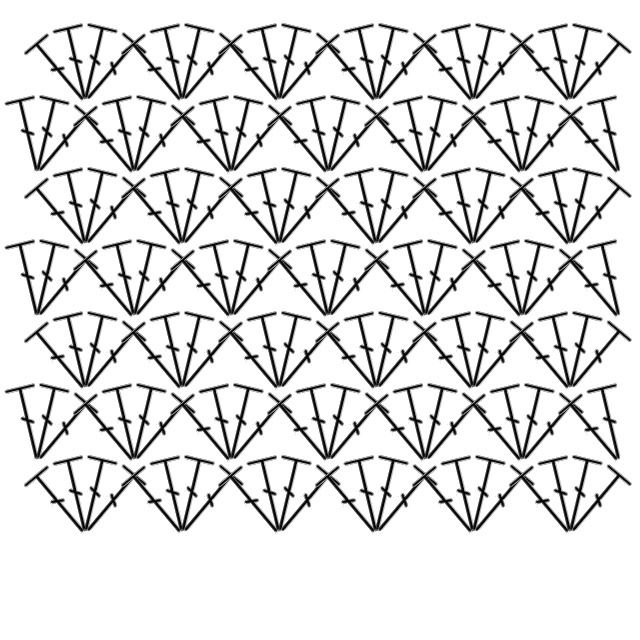double treble: (22, 30, 99, 113), (73, 30, 150, 113), (119, 30, 196, 113), (170, 30, 247, 113), (216, 30, 293, 113), (267, 30, 344, 113), (313, 30, 390, 113), (364, 30, 441, 113), (410, 30, 487, 113), (461, 30, 538, 113), (507, 30, 584, 113), (558, 30, 635, 113), (25, 102, 102, 185), (71, 102, 148, 185), (122, 102, 199, 185), (168, 102, 245, 185), (219, 102, 296, 185), (265, 102, 342, 185), (316, 102, 393, 185), (362, 102, 439, 185), (413, 102, 490, 185), (459, 102, 536, 185), (510, 102, 587, 185), (556, 102, 633, 185), (22, 174, 99, 257), (73, 174, 150, 257), (119, 174, 196, 257), (170, 174, 247, 257), (216, 174, 293, 257), (267, 174, 344, 257), (313, 174, 390, 257), (364, 174, 441, 257), (410, 174, 487, 257), (461, 174, 538, 257), (507, 174, 584, 257), (558, 174, 635, 257), (25, 246, 102, 329), (71, 246, 148, 329), (122, 246, 199, 329), (168, 246, 245, 329), (219, 246, 296, 329), (265, 246, 342, 329), (316, 246, 393, 329), (362, 246, 439, 329), (413, 246, 490, 329), (459, 246, 536, 329), (510, 246, 587, 329), (556, 246, 633, 329), (22, 318, 99, 401), (73, 318, 150, 401), (119, 318, 196, 401), (170, 318, 247, 401), (216, 318, 293, 401), (267, 318, 344, 401), (313, 318, 390, 401), (364, 318, 441, 401), (410, 318, 487, 401), (461, 318, 538, 401), (507, 318, 584, 401), (558, 318, 635, 401), (25, 390, 102, 473), (71, 390, 148, 473), (122, 390, 199, 473), (168, 390, 245, 473), (219, 390, 296, 473), (265, 390, 342, 473), (316, 390, 393, 473), (362, 390, 439, 473), (413, 390, 490, 473), (459, 390, 536, 473), (510, 390, 587, 473), (556, 390, 633, 473), (22, 462, 99, 545), (73, 462, 150, 545), (119, 462, 196, 545), (170, 462, 247, 545), (216, 462, 293, 545), (267, 462, 344, 545), (313, 462, 390, 545), (364, 462, 441, 545), (410, 462, 487, 545), (461, 462, 538, 545), (507, 462, 584, 545), (558, 462, 635, 545), (51, 20, 103, 106), (69, 20, 121, 106), (148, 20, 200, 106), (166, 20, 218, 106), (245, 20, 297, 106), (263, 20, 315, 106), (342, 20, 394, 106), (360, 20, 412, 106), (439, 20, 491, 106), (457, 20, 509, 106), (536, 20, 588, 106), (554, 20, 606, 106), (3, 92, 55, 178), (21, 92, 73, 178), (100, 92, 152, 178), (118, 92, 170, 178), (197, 92, 249, 178), (215, 92, 267, 178), (294, 92, 346, 178), (312, 92, 364, 178), (391, 92, 443, 178), (409, 92, 461, 178), (488, 92, 540, 178), (506, 92, 558, 178), (585, 92, 637, 178), (51, 164, 103, 250), (69, 164, 121, 250), (148, 164, 200, 250), (166, 164, 218, 250), (245, 164, 297, 250), (263, 164, 315, 250), (342, 164, 394, 250), (360, 164, 412, 250), (439, 164, 491, 250), (457, 164, 509, 250), (536, 164, 588, 250), (554, 164, 606, 250), (3, 236, 55, 322), (21, 236, 73, 322), (100, 236, 152, 322), (118, 236, 170, 322), (197, 236, 249, 322), (215, 236, 267, 322), (294, 236, 346, 322), (312, 236, 364, 322), (391, 236, 443, 322), (409, 236, 461, 322), (488, 236, 540, 322), (506, 236, 558, 322), (585, 236, 637, 322), (51, 308, 103, 394), (69, 308, 121, 394), (148, 308, 200, 394), (166, 308, 218, 394), (245, 308, 297, 394), (263, 308, 315, 394), (342, 308, 394, 394), (360, 308, 412, 394), (439, 308, 491, 394), (457, 308, 509, 394), (536, 308, 588, 394), (554, 308, 606, 394), (3, 380, 55, 466), (21, 380, 73, 466), (100, 380, 152, 466), (118, 380, 170, 466), (197, 380, 249, 466), (215, 380, 267, 466), (294, 380, 346, 466), (312, 380, 364, 466), (391, 380, 443, 466), (409, 380, 461, 466), (488, 380, 540, 466), (506, 380, 558, 466), (585, 380, 637, 466), (51, 452, 103, 538), (69, 452, 121, 538), (148, 452, 200, 538), (166, 452, 218, 538), (245, 452, 297, 538), (263, 452, 315, 538), (342, 452, 394, 538), (360, 452, 412, 538), (439, 452, 491, 538), (457, 452, 509, 538), (536, 452, 588, 538), (554, 452, 606, 538)
